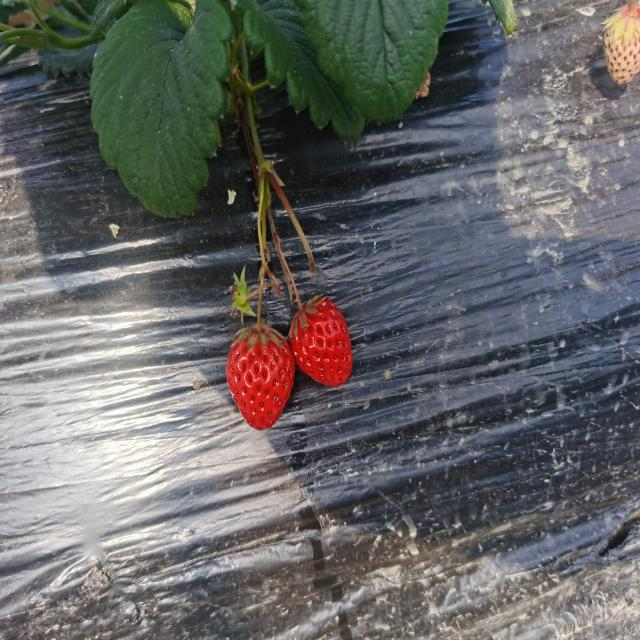stem: (292, 282, 304, 313), (257, 294, 262, 334)
strawberry: (225, 324, 295, 431), (289, 297, 353, 386)
